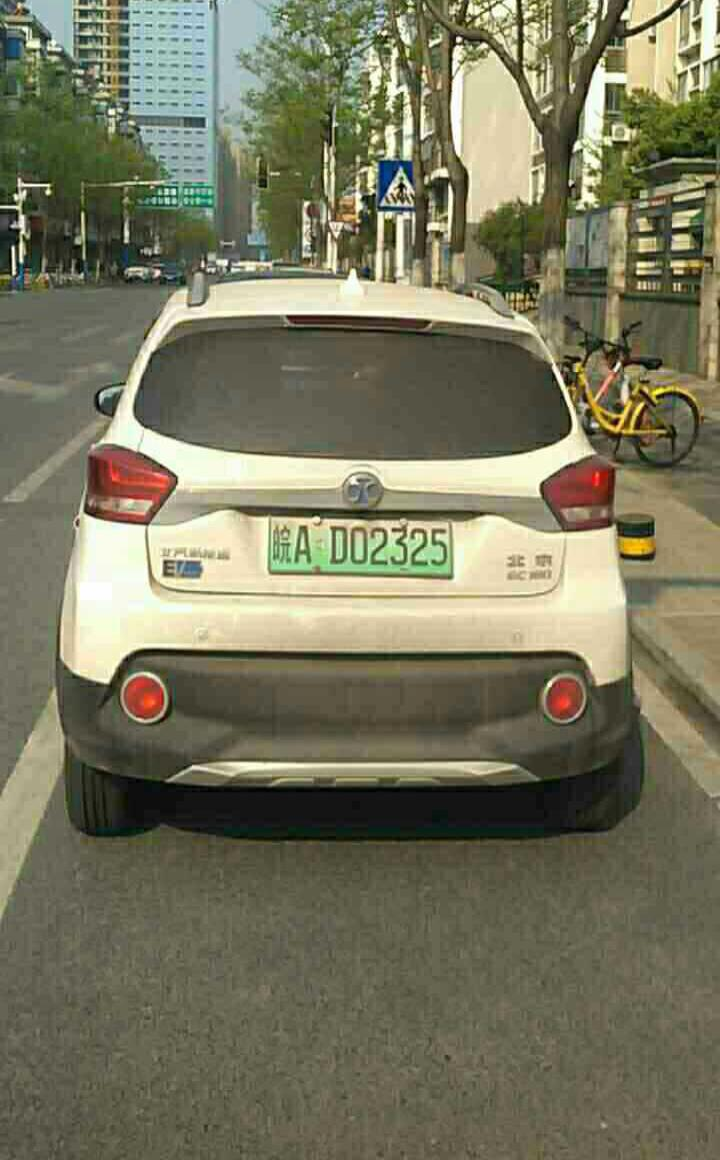car_id: (267, 514, 453, 576)
